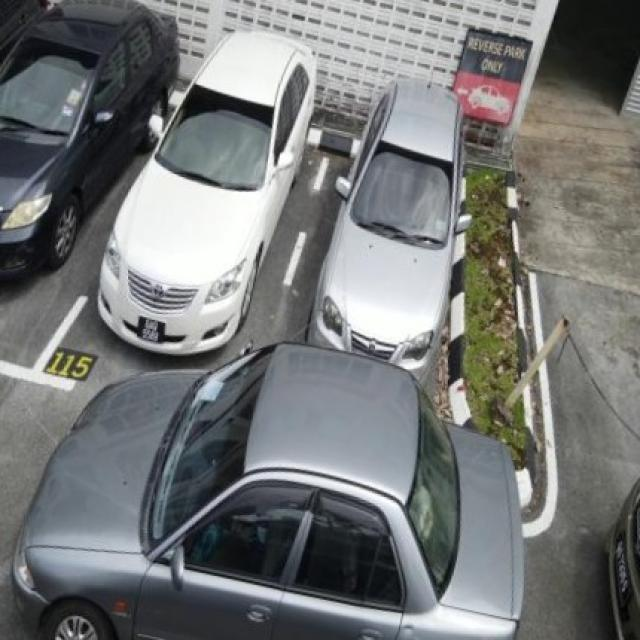Legalparking: (0, 2, 524, 356)
illegalparking: (3, 343, 580, 640)
